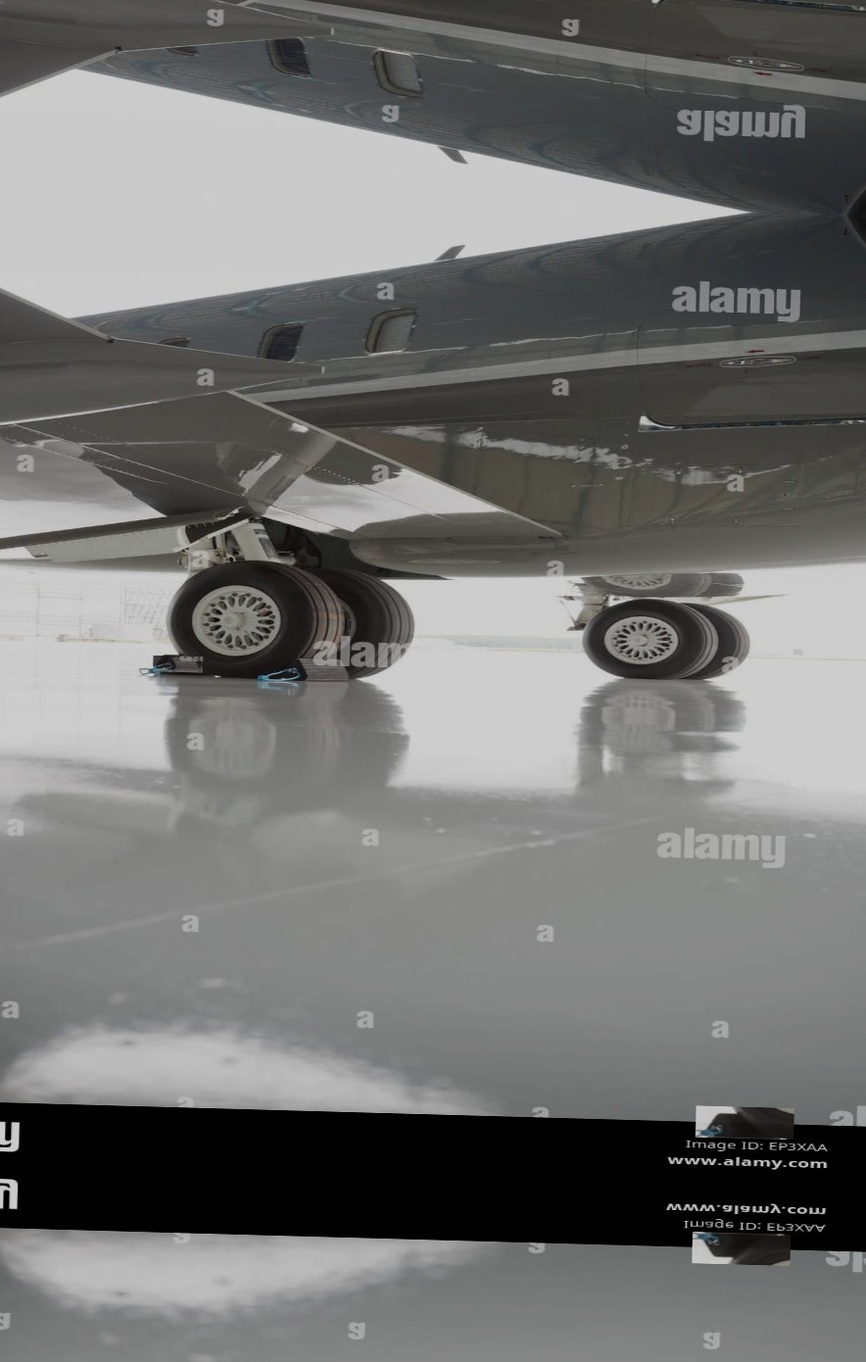chock: (692, 1232, 791, 1267), (695, 1106, 794, 1140), (263, 654, 358, 688), (144, 648, 228, 677), (153, 655, 203, 673)
wheel: (162, 558, 338, 678), (580, 596, 746, 681), (295, 569, 414, 680), (667, 602, 750, 678)
